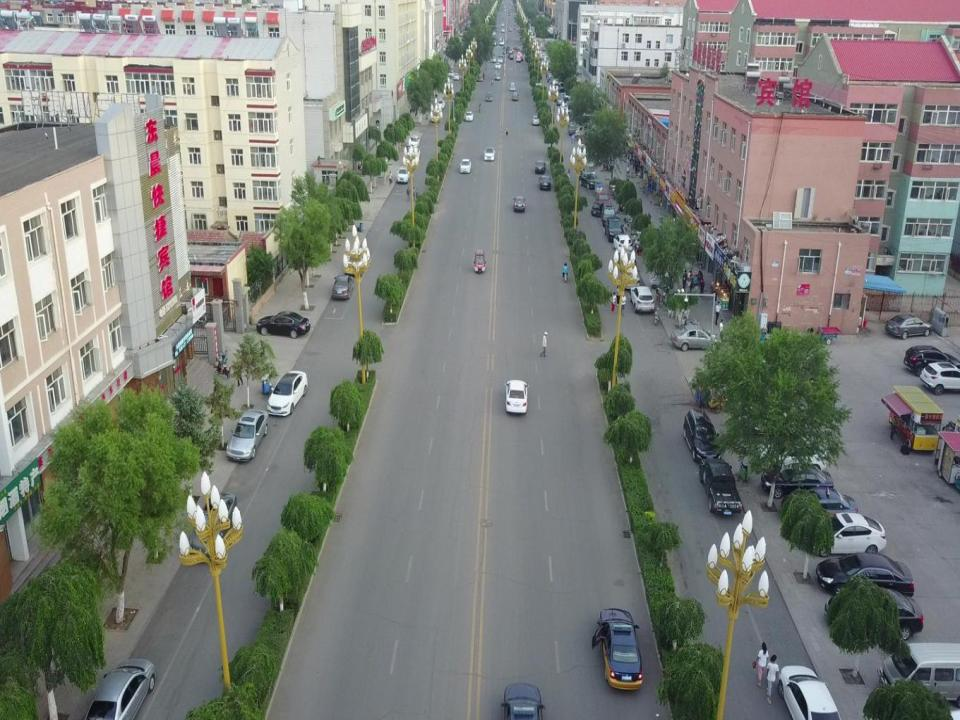car: (824, 587, 923, 640), (84, 655, 155, 720), (591, 607, 643, 691), (816, 552, 914, 596), (777, 661, 840, 720), (804, 513, 886, 556), (185, 492, 236, 560), (760, 463, 834, 498), (699, 457, 742, 516), (779, 486, 858, 514), (225, 410, 268, 461), (682, 408, 720, 462), (267, 368, 308, 416), (760, 443, 828, 470), (903, 344, 960, 376), (499, 680, 544, 720), (256, 310, 312, 340), (919, 362, 960, 396), (670, 325, 718, 351), (885, 314, 933, 340), (504, 377, 528, 415), (630, 286, 655, 314), (344, 246, 366, 274), (332, 273, 354, 300), (604, 216, 626, 242), (622, 264, 640, 290), (612, 234, 632, 252), (602, 202, 616, 225), (579, 171, 596, 189), (395, 166, 410, 184), (590, 202, 606, 217), (538, 174, 552, 190), (513, 196, 527, 211), (460, 158, 472, 173), (408, 134, 421, 146), (484, 147, 496, 160), (596, 191, 609, 203), (535, 160, 546, 172), (431, 111, 441, 123), (464, 110, 473, 122), (532, 115, 540, 125), (438, 100, 446, 108), (486, 91, 492, 101), (512, 92, 519, 100), (477, 73, 483, 82), (509, 82, 515, 90), (495, 62, 500, 70), (454, 73, 459, 80), (495, 73, 500, 79), (498, 57, 503, 63), (491, 57, 496, 63), (448, 69, 453, 75)
van: (877, 642, 960, 709)
